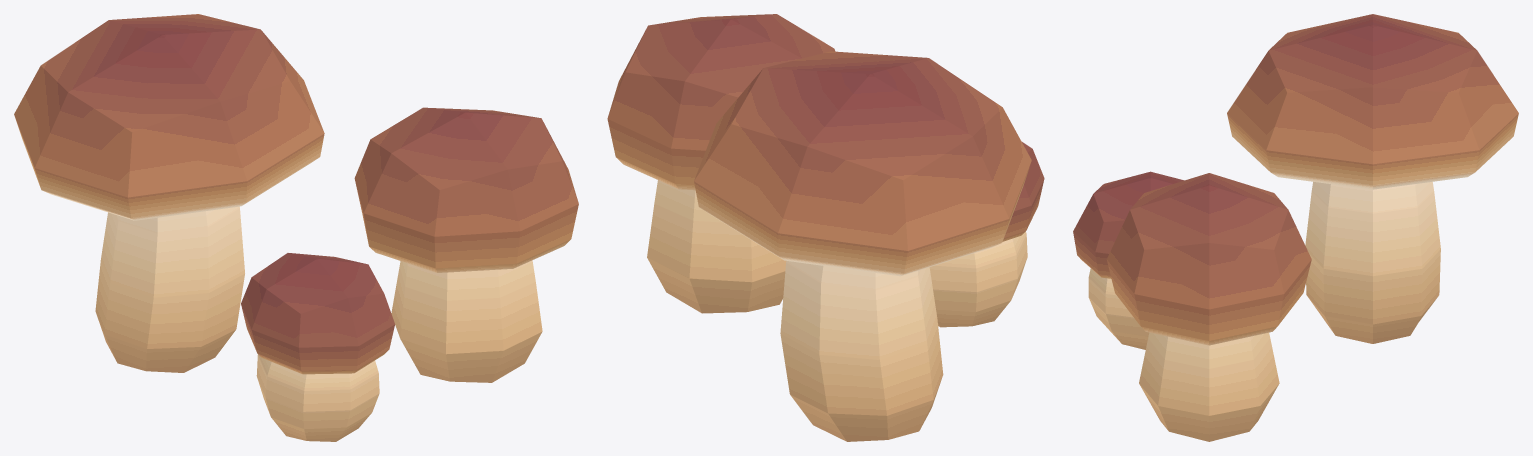
Rendered from Cluster_KingBolete.glb.
3 renders of one model, left to right at view 1: azimuth 30°, elevation 25°; view 2: azimuth 150°, elevation 25°; view 3: azimuth 270°, elevation 25°, orthographic. The views are drawn at different scales.
Visible parts, largest first — view 1: medium; view 2: medium; view 3: medium.
Boxes of the visible parts, bbox=[...] form: medium: bbox=[14, 14, 578, 441]; medium: bbox=[607, 14, 1044, 441]; medium: bbox=[1073, 14, 1518, 441].
Bounding box in the file's own units: 12.97 × 9.22 × 11.98.
Materials: 1 (1 with a texture image).
